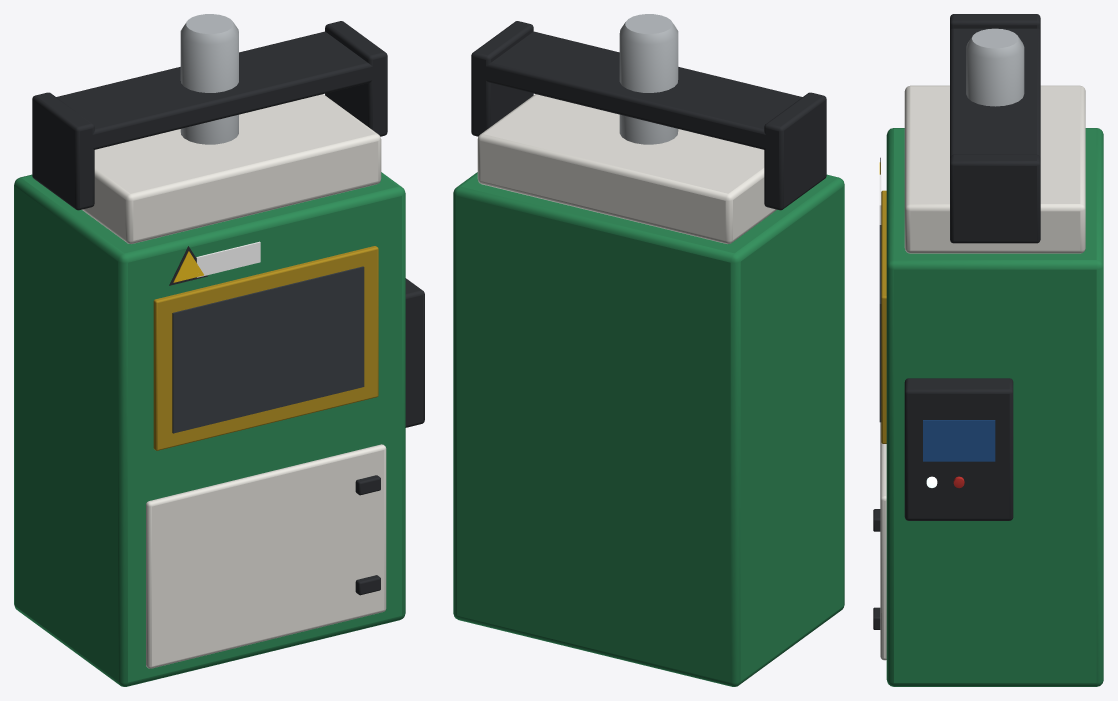
File: vertical_baler.fbx
3 views of the same model, side by side, from view 1: azimuth 30°, elevation 25°; view 2: azimuth 150°, elevation 25°; view 3: azimuth 270°, elevation 25° (orthographic).
Visible parts, largest first — view 1: vertical_baler; view 2: vertical_baler; view 3: vertical_baler.
Boxes of the visible parts, bbox=[...] form: vertical_baler: bbox=[14, 14, 424, 686]; vertical_baler: bbox=[453, 14, 844, 686]; vertical_baler: bbox=[873, 14, 1103, 686].
Bounding box in the file's own units: 2.09 × 3.55 × 1.27.
